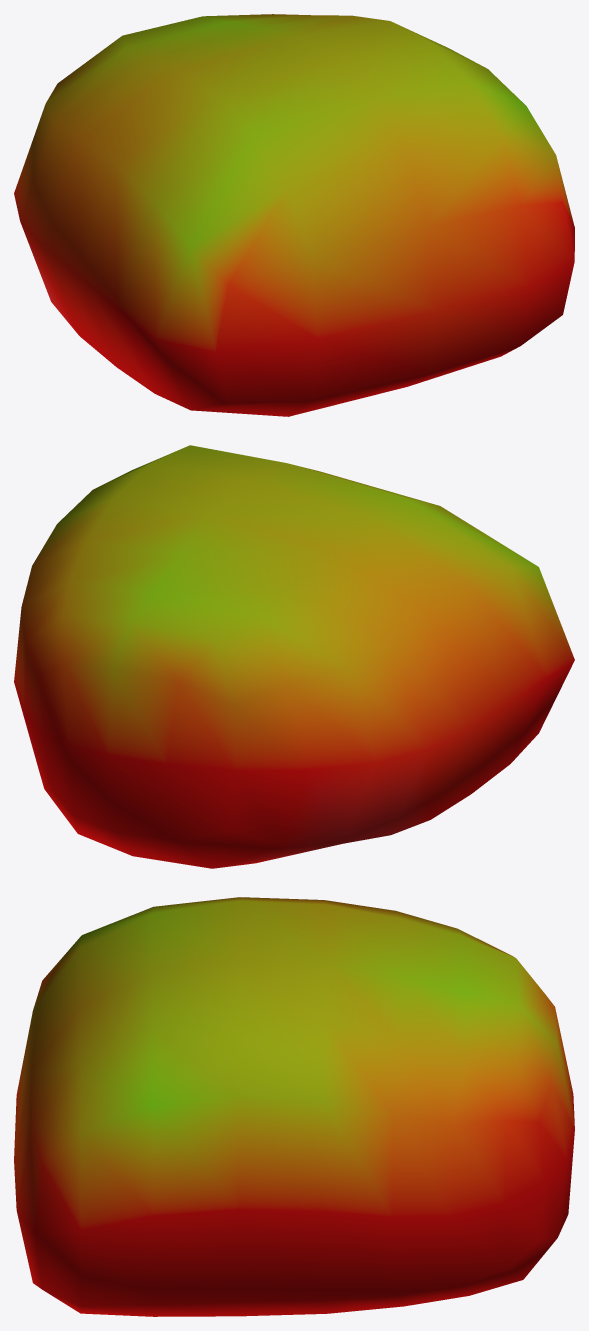
File: PRM Boulder.fbx
3 views of the same model, one above another, from view 1: azimuth 30°, elevation 25°; view 2: azimuth 150°, elevation 25°; view 3: azimuth 270°, elevation 25° (orthographic). The views are drawn at different scales.
Parts seen in each view (by area): view 1: Boulder; view 2: Boulder; view 3: Boulder.
Part boxes in pixels (left/top/right/bottom): Boulder: left=14, top=14, right=574, bottom=416; Boulder: left=14, top=445, right=574, bottom=868; Boulder: left=14, top=897, right=574, bottom=1316.
Size of the model in its own units: 1244 by 799 by 1254.
